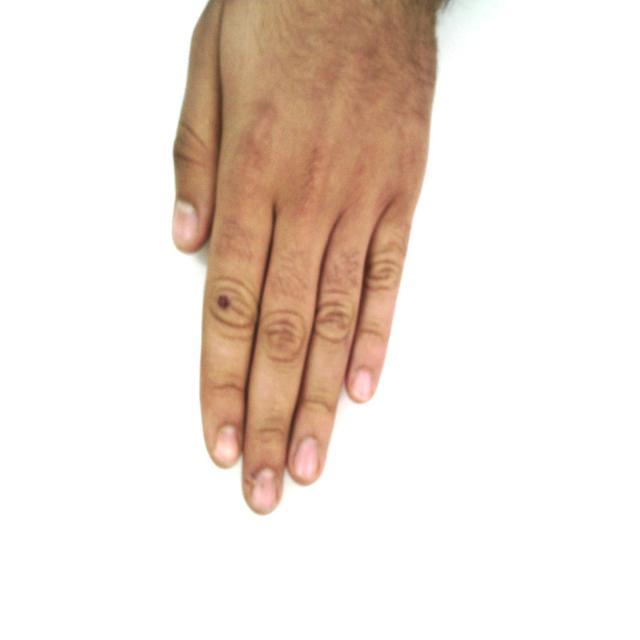Fingernail: (293, 437, 318, 482), (252, 470, 277, 512), (175, 202, 198, 241), (215, 427, 239, 464), (352, 370, 371, 400)
